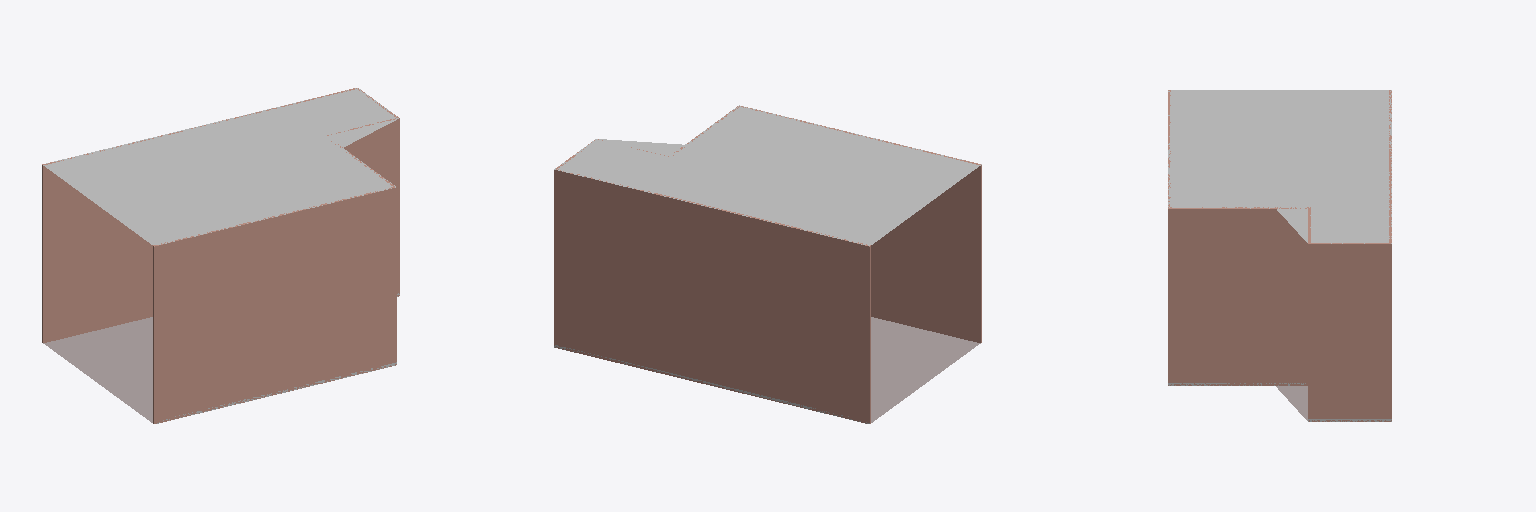
Rendered from testroom.obj.
3 views of the same model, side by side, from view 1: azimuth 30°, elevation 25°; view 2: azimuth 150°, elevation 25°; view 3: azimuth 270°, elevation 25° (orthographic).
Visible parts, largest first — view 1: Room, Ceiling, Floor; view 2: Room, Ceiling, Floor; view 3: Room, Ceiling, Floor.
Part boxes in pixels (x1,y1,x2,y2): Room: (42,88,399,423); Ceiling: (43,88,398,244); Floor: (43,317,152,422); Room: (554,106,981,423); Ceiling: (554,105,981,245); Floor: (871,317,980,422); Room: (1168,90,1391,421); Ceiling: (1168,90,1391,243); Floor: (1276,386,1307,420).
Bounding box in the file's own units: 13 × 7 × 8.